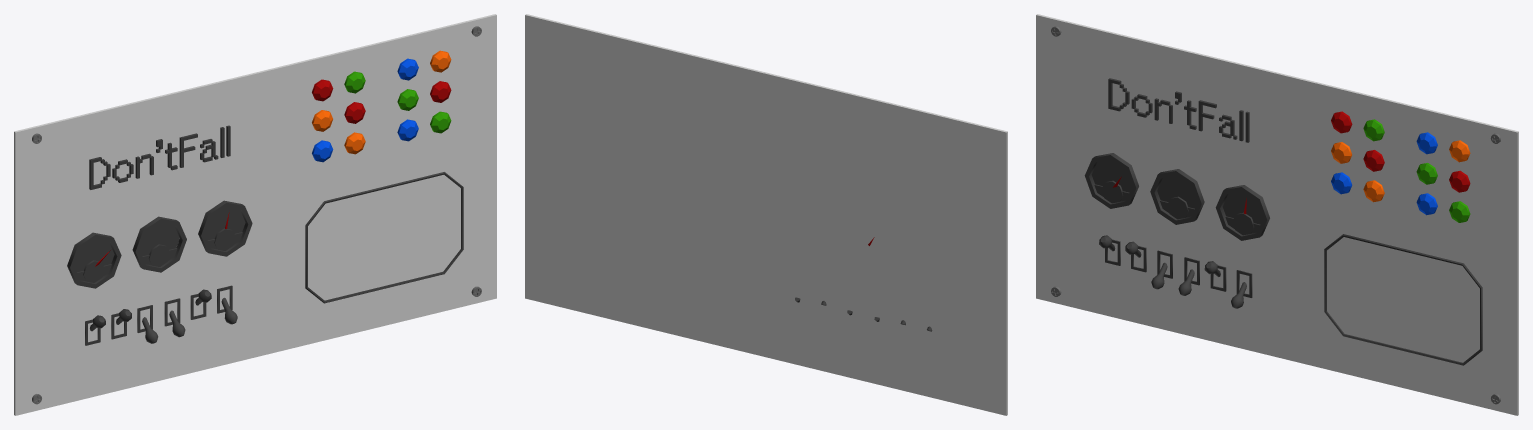
File: Painel inicio 2.FBX
3 renders of one model, left to right at view 1: azimuth 30°, elevation 25°; view 2: azimuth 150°, elevation 25°; view 3: azimuth 330°, elevation 25°, orthographic.
Visible parts, largest first — view 1: painel, chaveamento, relogio 2, relogio 3, relogio 1, Text001, quadro; view 2: painel; view 3: painel, chaveamento, relogio 2, relogio 3, relogio 1, Text001, quadro.
Part boxes in pixels (<box>): painel: <box>14,14,496,415</box>; chaveamento: <box>85,285,237,345</box>; relogio 2: <box>132,216,186,272</box>; relogio 3: <box>198,200,252,256</box>; relogio 1: <box>67,232,121,288</box>; Text001: <box>89,125,230,189</box>; quadro: <box>305,172,463,303</box>; painel: <box>525,14,1007,415</box>; painel: <box>1036,14,1518,415</box>; chaveamento: <box>1099,235,1252,308</box>; relogio 2: <box>1150,169,1204,224</box>; relogio 3: <box>1215,185,1269,240</box>; relogio 1: <box>1084,153,1138,208</box>; Text001: <box>1108,78,1249,142</box>; quadro: <box>1324,234,1482,365</box>.
Bounding box in the file's own units: 192 × 10.28 × 108.
